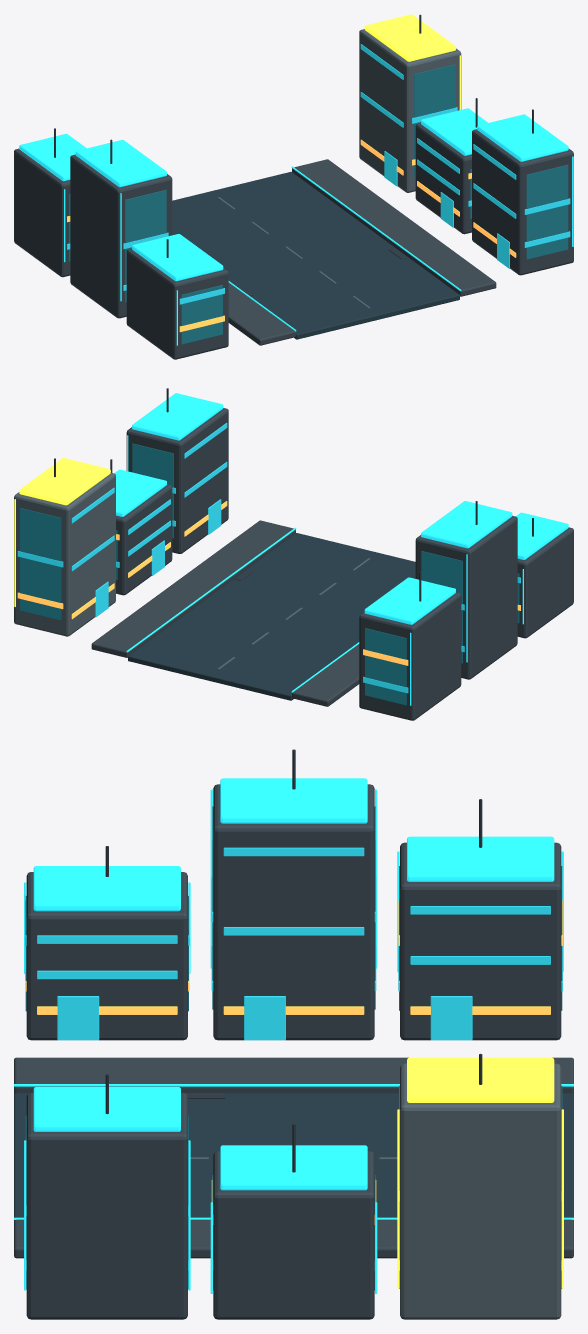
Rendered from alley_lod1.glb.
3 renders of one model, top to bottom at view 1: azimuth 30°, elevation 25°; view 2: azimuth 150°, elevation 25°; view 3: azimuth 270°, elevation 25°, orthographic. The views are drawn at different scales.
Parts seen in each view (by area): view 1: ND_Batch_ND_CityConcrete, ND_Batch_ND_WetAsphalt, ND_Batch_ND_CityCyanMuted, ND_Batch_ND_DarkGlass, ND_Batch_ND_RoadEdge, ND_Batch_ND_CityConcreteLight, ND_Batch_ND_NeonGlass, ND_Batch_ND_PackageGold, ND_Batch_ND_WarmWindow, ND_Batch_ND_RooftopMetal; view 2: ND_Batch_ND_CityConcrete, ND_Batch_ND_WetAsphalt, ND_Batch_ND_CityCyanMuted, ND_Batch_ND_DarkGlass, ND_Batch_ND_RoadEdge, ND_Batch_ND_CityConcreteLight, ND_Batch_ND_NeonGlass, ND_Batch_ND_PackageGold, ND_Batch_ND_WarmWindow, ND_Batch_ND_RooftopMetal; view 3: ND_Batch_ND_CityConcrete, ND_Batch_ND_CityCyanMuted, ND_Batch_ND_CityConcreteLight, ND_Batch_ND_WetAsphalt, ND_Batch_ND_RoadEdge, ND_Batch_ND_NeonGlass, ND_Batch_ND_PackageGold, ND_Batch_ND_WarmWindow, ND_Batch_ND_DarkGlass, ND_Batch_ND_RooftopMetal.
Boxes of the visible parts, x1,y1,x2,y2 form: ND_Batch_ND_CityConcrete: (14,123,573,359); ND_Batch_ND_WetAsphalt: (172,172,459,339); ND_Batch_ND_CityCyanMuted: (19,108,573,345); ND_Batch_ND_DarkGlass: (68,64,568,344); ND_Batch_ND_RoadEdge: (228,159,496,345); ND_Batch_ND_CityConcreteLight: (217,29,461,308); ND_Batch_ND_NeonGlass: (67,44,570,304); ND_Batch_ND_PackageGold: (364,14,460,109); ND_Batch_ND_WarmWindow: (67,139,516,332); ND_Batch_ND_RooftopMetal: (54,14,533,295); ND_Batch_ND_CityConcrete: (116,408,573,720); ND_Batch_ND_WetAsphalt: (128,533,415,700); ND_Batch_ND_CityCyanMuted: (114,393,568,705); ND_Batch_ND_DarkGlass: (19,443,519,705); ND_Batch_ND_RoadEdge: (91,520,359,706); ND_Batch_ND_CityConcreteLight: (14,472,370,669); ND_Batch_ND_NeonGlass: (17,423,520,693); ND_Batch_ND_PackageGold: (14,458,110,606); ND_Batch_ND_WarmWindow: (17,501,520,665); ND_Batch_ND_RooftopMetal: (54,388,533,601); ND_Batch_ND_CityConcrete: (26,784,561,1319); ND_Batch_ND_CityCyanMuted: (14,778,573,1293); ND_Batch_ND_CityConcreteLight: (190,1063,561,1319); ND_Batch_ND_WetAsphalt: (14,1093,573,1220); ND_Batch_ND_RoadEdge: (14,1057,573,1258); ND_Batch_ND_NeonGlass: (25,847,562,1270); ND_Batch_ND_PackageGold: (397,1057,563,1288); ND_Batch_ND_WarmWindow: (25,900,562,1270); ND_Batch_ND_DarkGlass: (25,806,562,1290); ND_Batch_ND_RooftopMetal: (105,749,482,1217).
Size of the model in its own units: 27.4 by 10.63 by 20.
